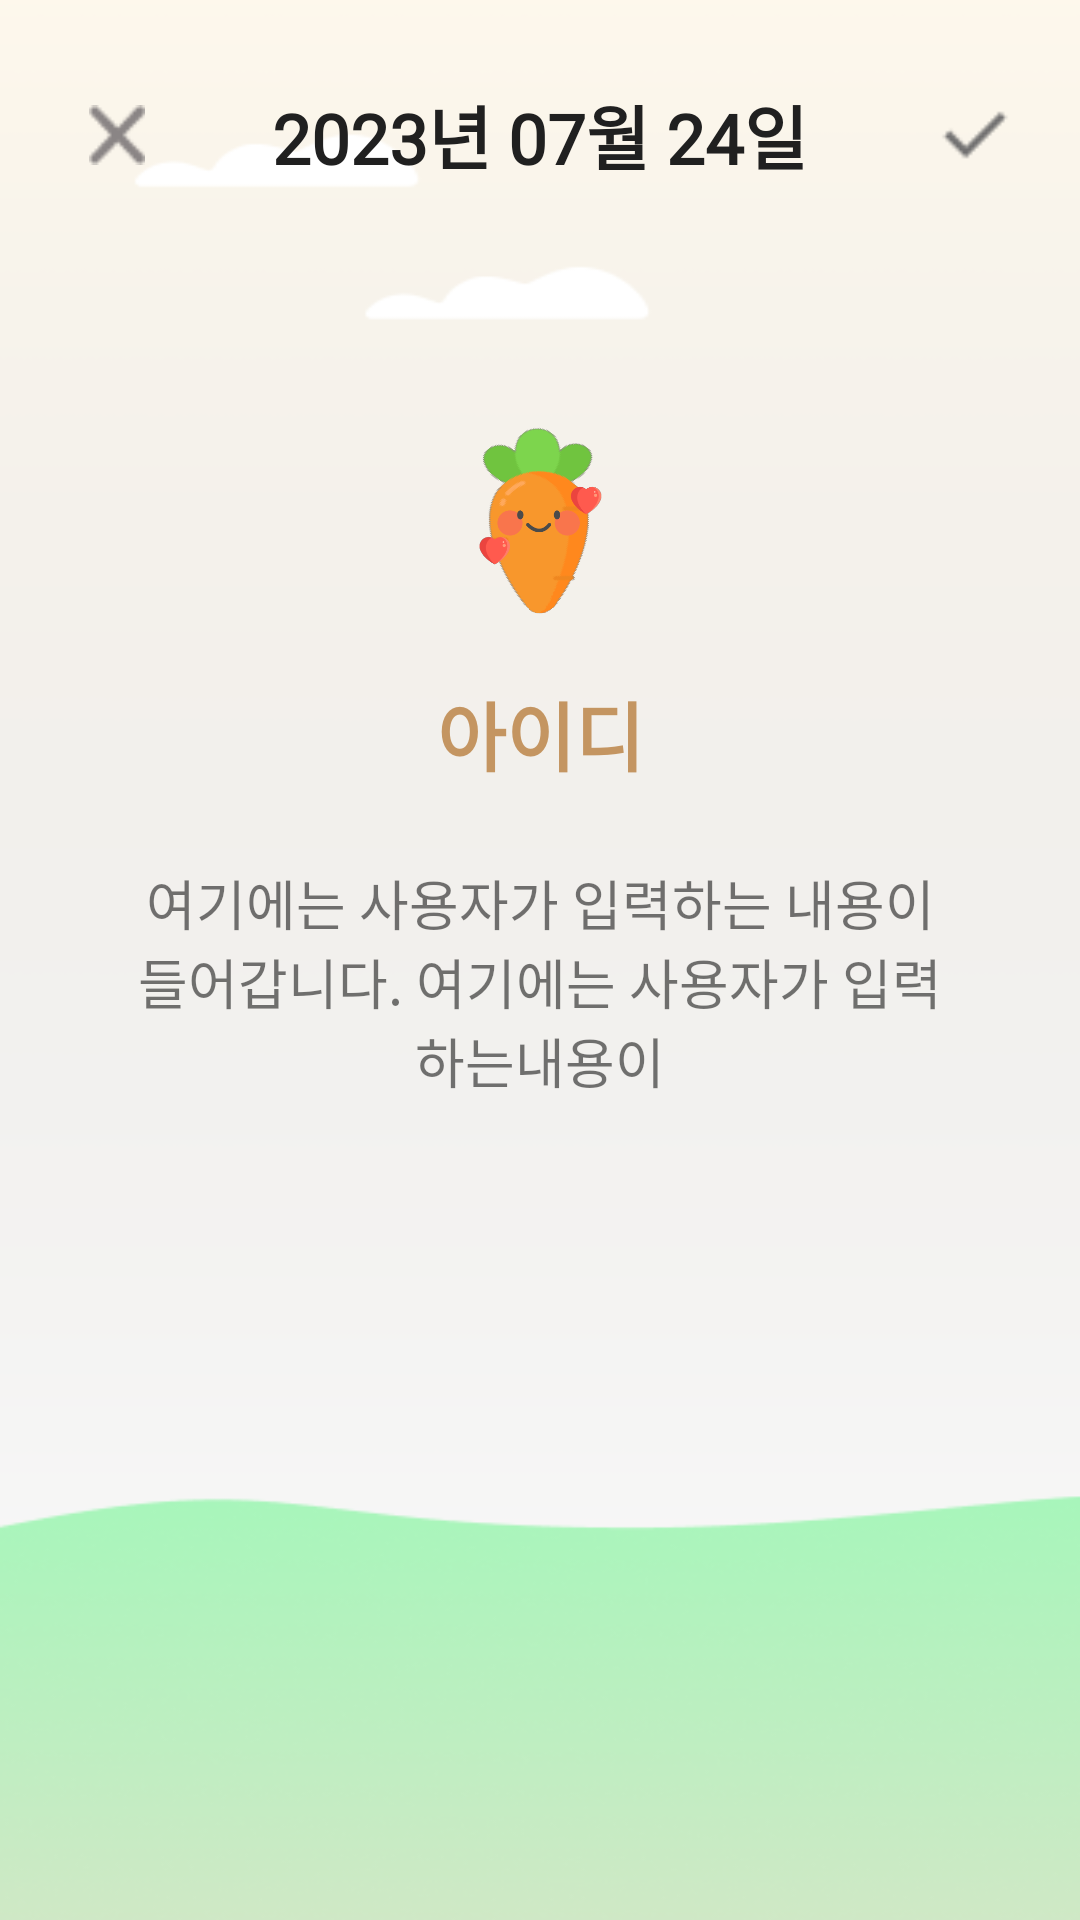

Icons on this 1080*1920 Android screen, each with the point to tap as (x=x, y=y):
cancel: (x=117, y=135)
check: (x=975, y=135)
happy: (x=540, y=520)
